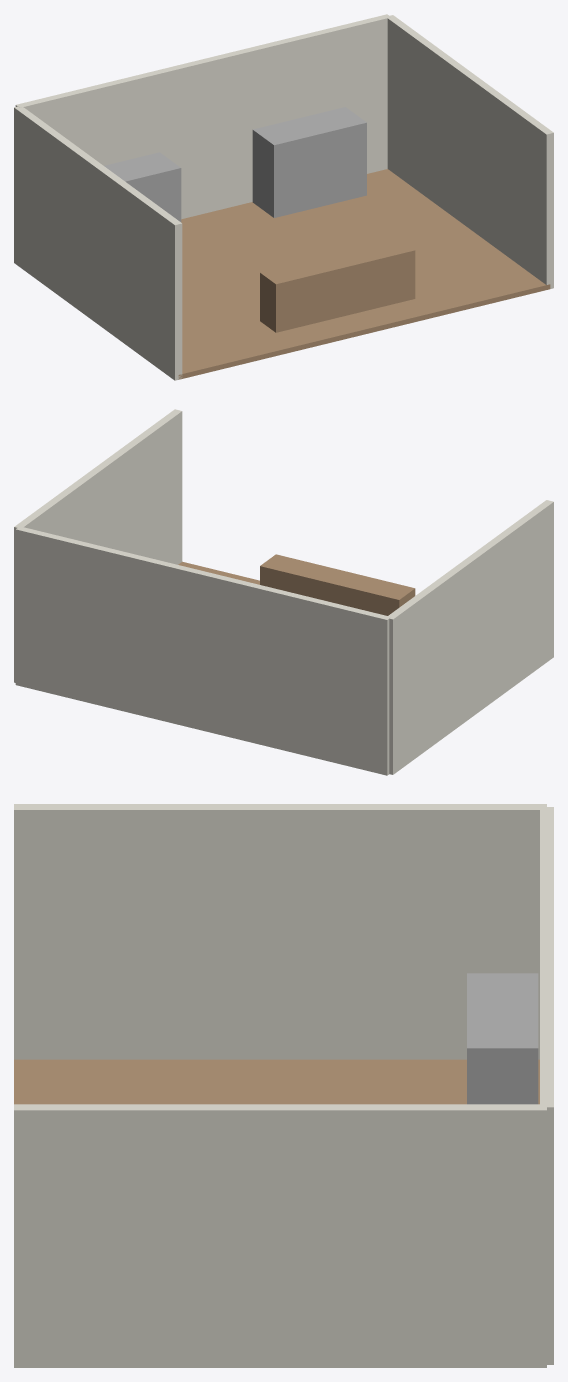
The model's file is storefront_medium.glb.
The picture shows the model from 3 angles, top to bottom: view 1: azimuth 30°, elevation 25°; view 2: azimuth 150°, elevation 25°; view 3: azimuth 270°, elevation 25°; orthographic projection. The views are drawn at different scales.
Visible parts, largest first — view 1: floor, back, left, right, rack2, counter, rack; view 2: back, left, right, counter; view 3: right, left, floor, rack, back, counter.
Part boxes in pixels (bbox=[...]): floor: bbox=[178, 169, 550, 379]; back: bbox=[15, 14, 390, 219]; left: bbox=[14, 106, 182, 380]; right: bbox=[387, 15, 553, 288]; rack2: bbox=[252, 107, 366, 217]; counter: bbox=[260, 238, 415, 332]; rack: bbox=[104, 152, 181, 222]; back: bbox=[15, 526, 390, 775]; left: bbox=[388, 500, 553, 774]; right: bbox=[14, 409, 182, 682]; counter: bbox=[260, 554, 415, 615]; right: bbox=[14, 1104, 546, 1367]; left: bbox=[14, 804, 546, 1059]; floor: bbox=[14, 1059, 539, 1104]; rack: bbox=[467, 973, 538, 1104]; back: bbox=[540, 807, 553, 1364]; counter: bbox=[76, 1070, 129, 1104].
Bounding box in the file's own units: 8.16 × 3.2 × 6.08.
